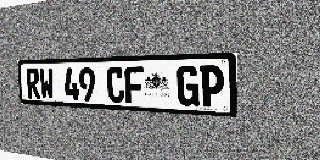4: (63, 68, 80, 101)
9: (79, 67, 96, 102)
C: (106, 67, 125, 103)
F: (124, 66, 144, 104)
G: (177, 65, 199, 106)
P: (200, 65, 224, 108)
R: (26, 68, 41, 99)
W: (39, 68, 54, 100)
